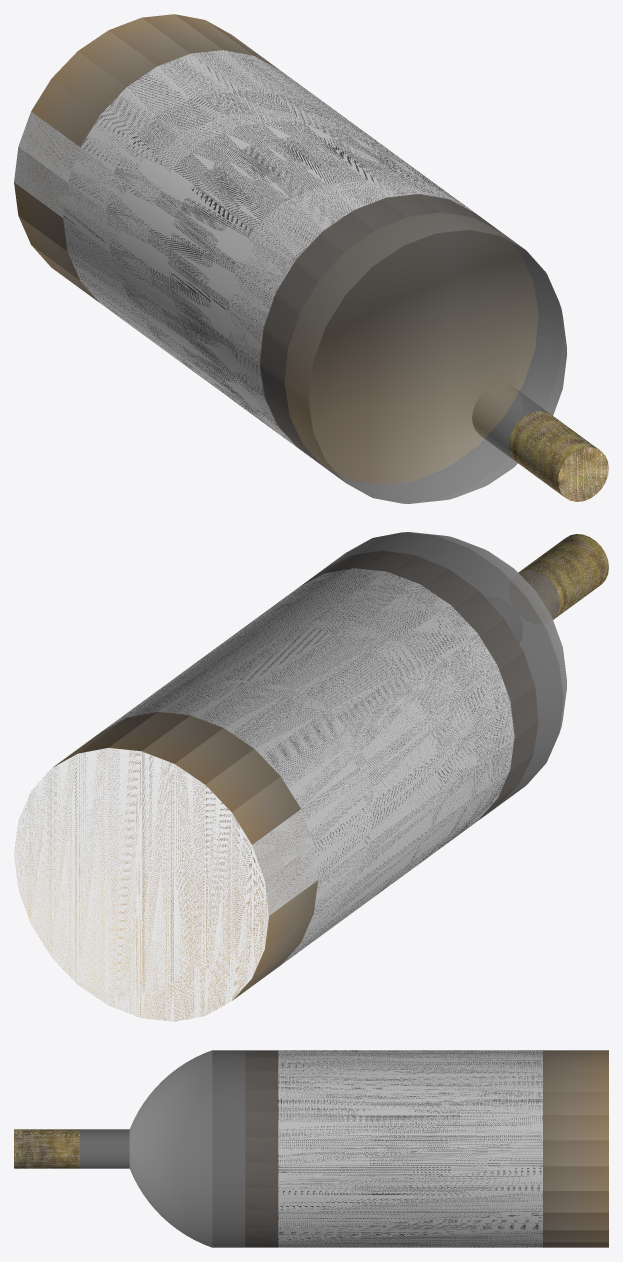
The model's file is model_scale.obj.
3 views of the same model, one above another, from view 1: azimuth 30°, elevation 25°; view 2: azimuth 150°, elevation 25°; view 3: azimuth 270°, elevation 25° (orthographic). The views are drawn at different scales.
Parts seen in each view (by area): view 1: mesh1_mesh1-geometry; view 2: mesh1_mesh1-geometry; view 3: mesh1_mesh1-geometry.
Boxes of the visible parts, box(x1,y1,x2,y2) form: mesh1_mesh1-geometry: box(14, 14, 608, 503); mesh1_mesh1-geometry: box(14, 532, 608, 1021); mesh1_mesh1-geometry: box(14, 1050, 608, 1247).
Bounding box in the file's own units: 0.0457 × 0.0457 × 0.1371.
